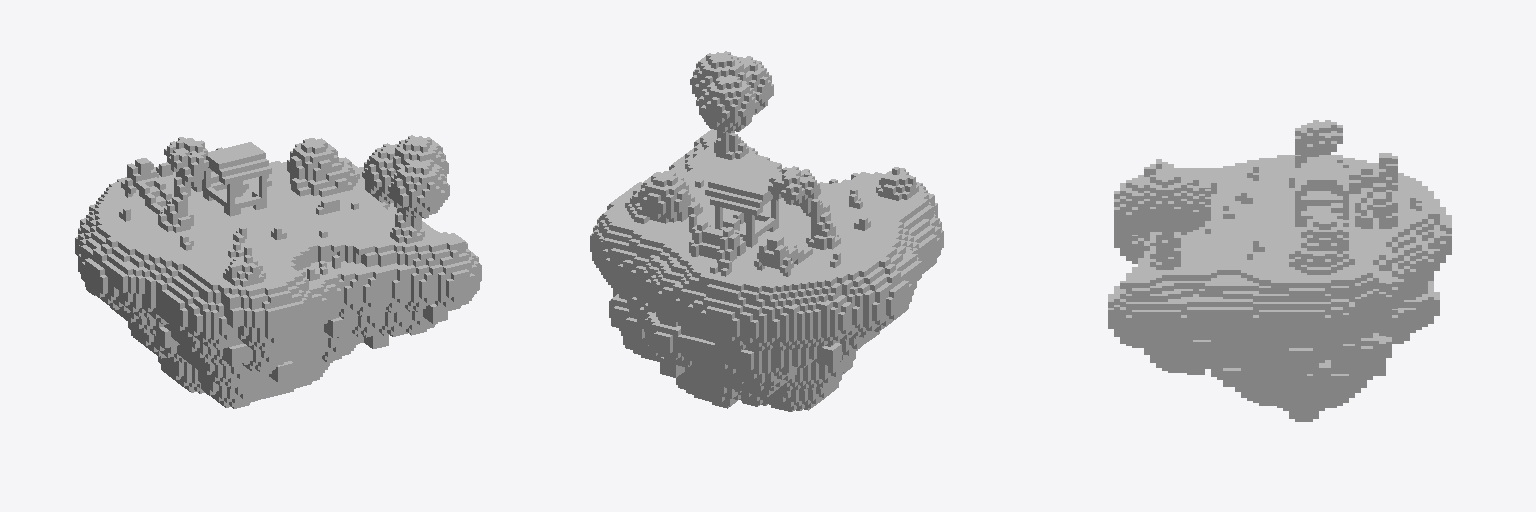
The model's file is Золото модель.obj.
3 views of the same model, side by side, from view 1: azimuth 30°, elevation 25°; view 2: azimuth 150°, elevation 25°; view 3: azimuth 270°, elevation 25° (orthographic).
Visible parts, largest first — view 1: object 1; view 2: object 1; view 3: object 1.
Part boxes in pixels (bbox=[...]): object 1: bbox=[75, 135, 481, 408]; object 1: bbox=[590, 51, 943, 411]; object 1: bbox=[1108, 120, 1451, 421].
Size of the model in its own units: 5.7 by 4.8 by 5.7.